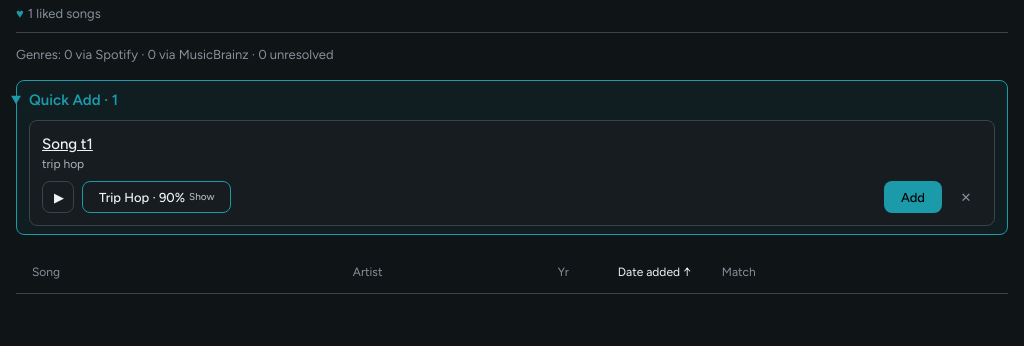
Test: rolls back the optimistic removal and surfaces an error when addTracksToPlaylist fails
This screenshot has width=1024, height=346.
What coordinates should you click on to do the following:
click the button "Add"
I would click on:
 (913, 197)
Its box is [884, 181, 942, 213].
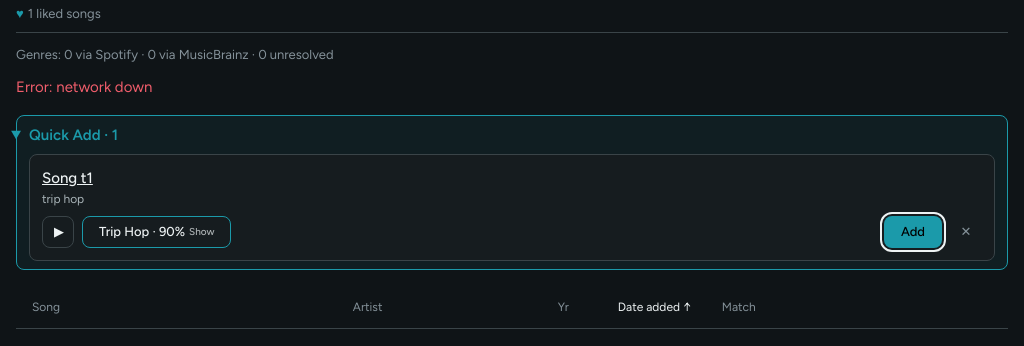
Expected: the message shows "network down", [16, 78, 152, 96]
